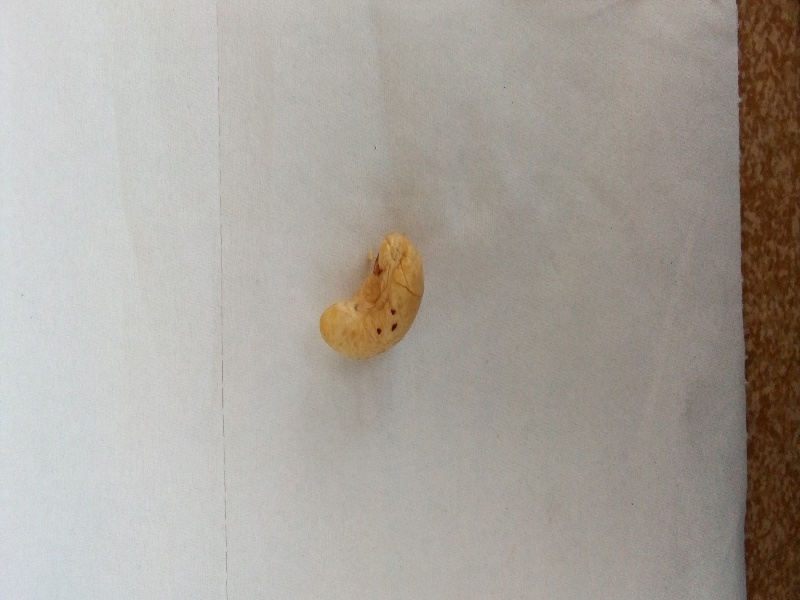cashew: (308, 218, 450, 376)
